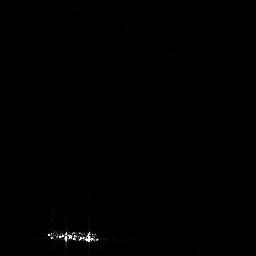ship: (44, 228, 101, 243)
